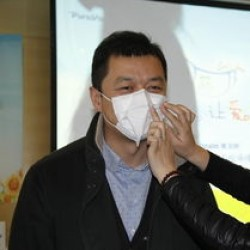mask: (98, 84, 173, 143)
